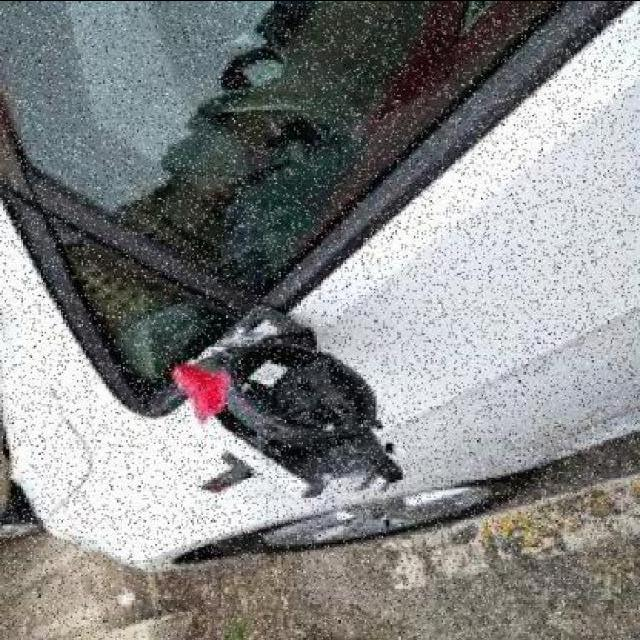Sidemirror-Damage: (211, 311, 383, 514)
